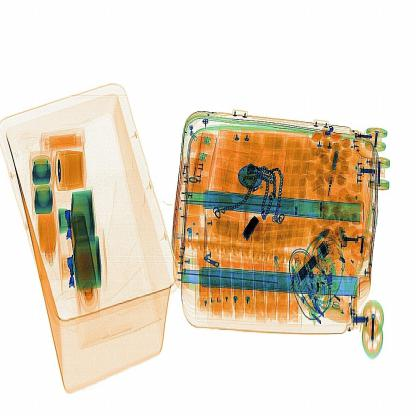scissors: (235, 203, 272, 252)
